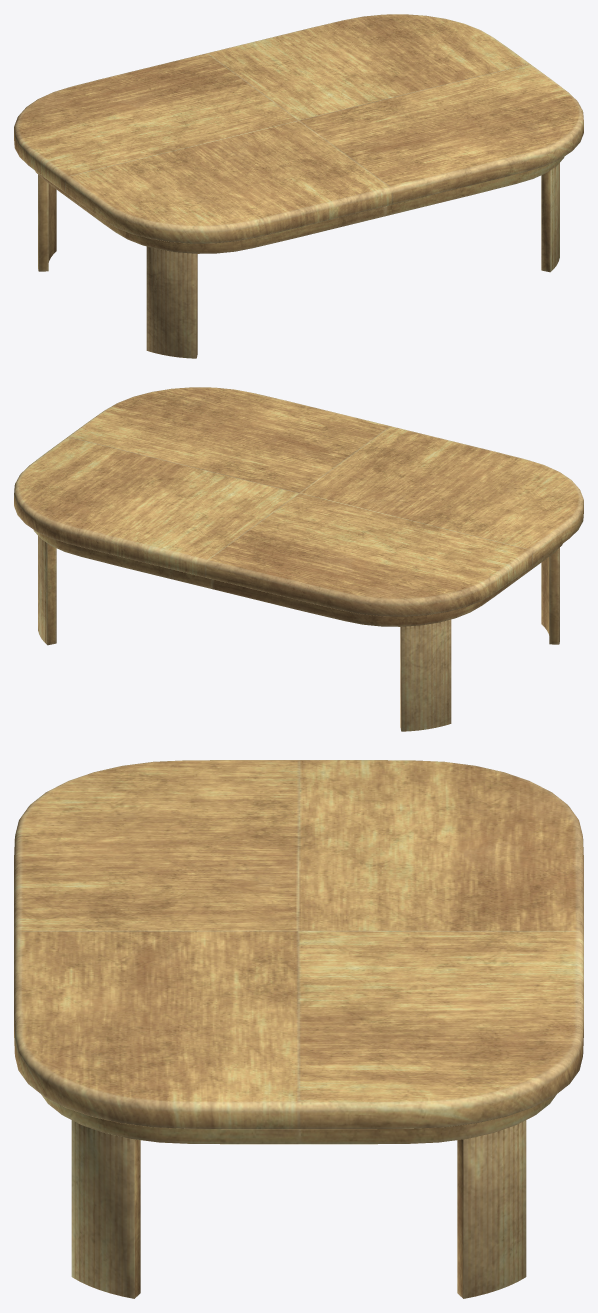
The model's file is coffee_table_01.glb.
The picture shows the model from 3 angles, top to bottom: view 1: azimuth 30°, elevation 25°; view 2: azimuth 150°, elevation 25°; view 3: azimuth 270°, elevation 25°; orthographic projection. The views are drawn at different scales.
Visible parts, largest first — view 1: tableTop_low, tableLegs_low, tableSkirt_low; view 2: tableTop_low, tableLegs_low, tableSkirt_low; view 3: tableTop_low, tableLegs_low, tableSkirt_low.
Boxes of the visible parts, box(x1,y1,x2,y2) form: tableTop_low: box(14, 14, 583, 243); tableLegs_low: box(38, 163, 559, 358); tableSkirt_low: box(35, 157, 564, 253); tableTop_low: box(14, 387, 583, 616); tableLegs_low: box(38, 536, 559, 731); tableSkirt_low: box(33, 530, 562, 626); tableTop_low: box(14, 760, 583, 1129); tableLegs_low: box(71, 1120, 526, 1298); tableSkirt_low: box(41, 1094, 556, 1144).
Size of the model in its own units: 2 by 0.5805 by 1.39.
Materials: 1 (1 with a texture image).
